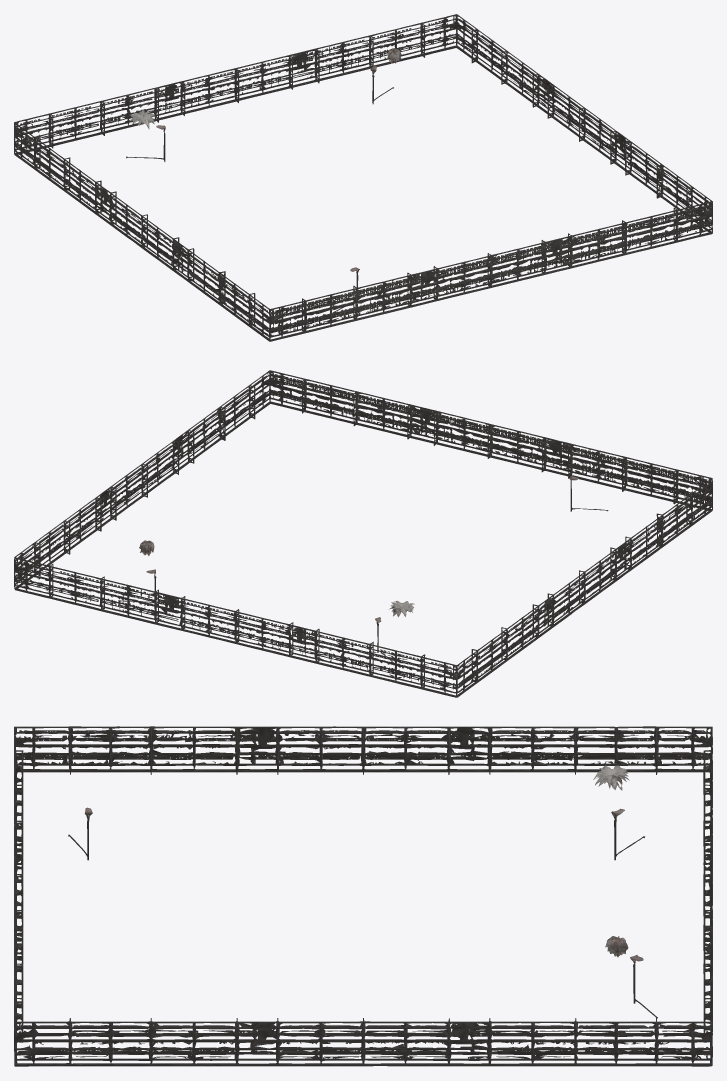
The model's file is venice-blacktop.glb.
The picture shows the model from 3 angles, top to bottom: view 1: azimuth 30°, elevation 25°; view 2: azimuth 150°, elevation 25°; view 3: azimuth 270°, elevation 25°; orthographic projection. The views are drawn at different scales.
Visible parts, largest first — view 1: Environment; view 2: Environment; view 3: Environment.
Boxes of the visible parts, x1,y1,x2,y2 form: Environment: (14,14,712,341); Environment: (14,370,712,697); Environment: (14,726,712,1066).
Size of the model in its own units: 2 by 0.2414 by 2.
1 material, 1 textured.
